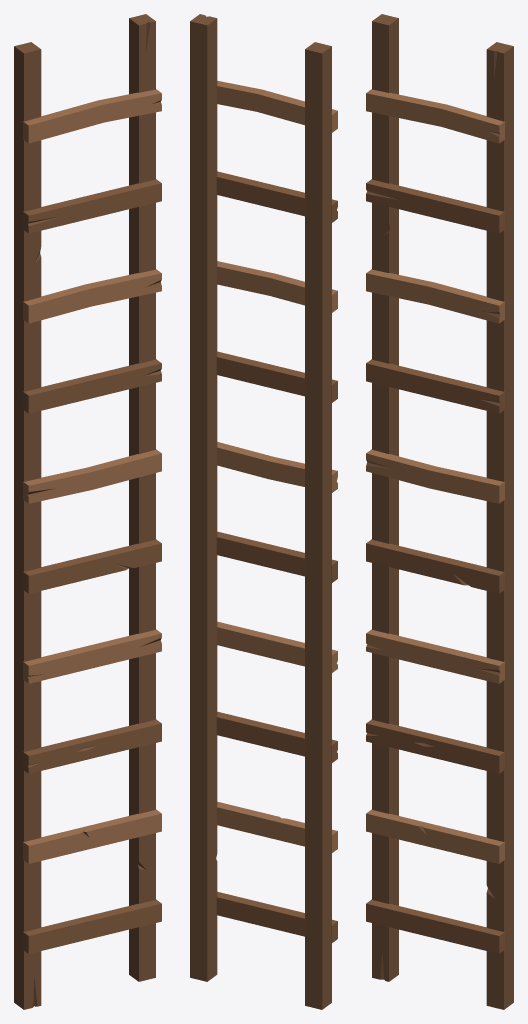
File: WoodStairs_03.fbx
3 views of the same model, side by side, from view 1: azimuth 30°, elevation 25°; view 2: azimuth 150°, elevation 25°; view 3: azimuth 330°, elevation 25° (orthographic).
Visible parts, largest first — view 1: WoodStairs_03_LOD0; view 2: WoodStairs_03_LOD0; view 3: WoodStairs_03_LOD0.
Part boxes in pixels (<box>): WoodStairs_03_LOD0: <box>14,14,161,1009</box>; WoodStairs_03_LOD0: <box>190,14,337,1009</box>; WoodStairs_03_LOD0: <box>366,14,513,1009</box>.
Size of what is drawn, in the model's own units: 0.5826 by 4 by 0.1152.
